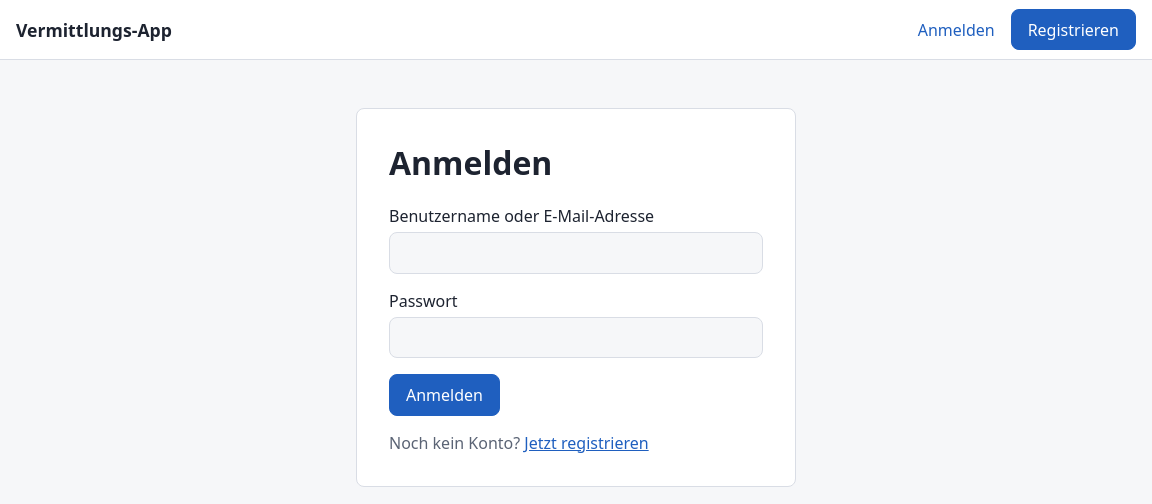
Test: LoginPage › returns to the originally requested page after login
This screenshot has width=1152, height=504.
Type "anna@example.com" into the field labelled "Benutzername oder E-Mail-Adresse".
click(576, 253); type("anna@example.com")  # box [389, 232, 763, 274]
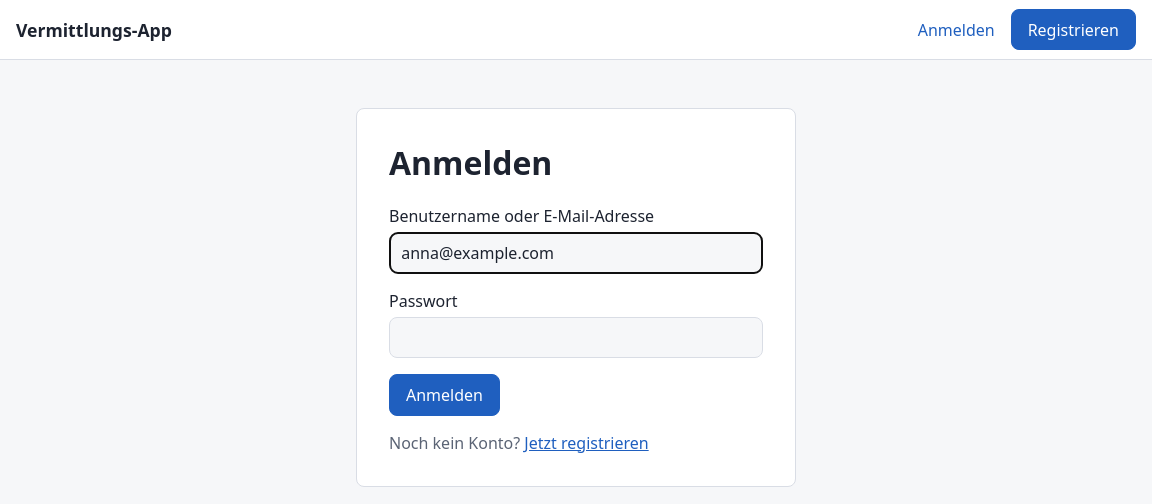
Type "S3cure-pass!" into the password field labelled "Passwort".
click(576, 337); type("S3cure-pass!")  # box [389, 317, 763, 358]
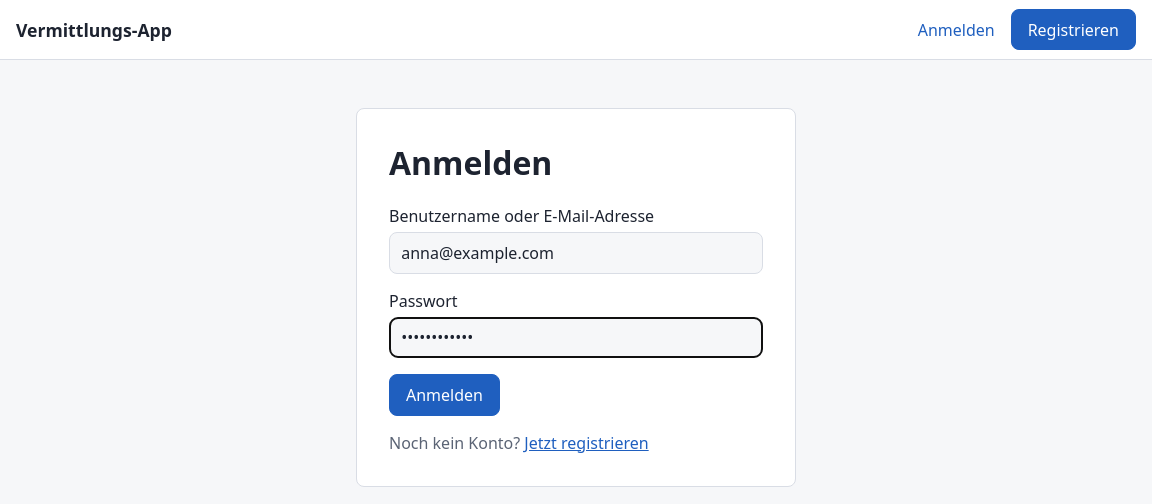
Click the button "Anmelden".
click(444, 395)  # box [389, 374, 500, 416]
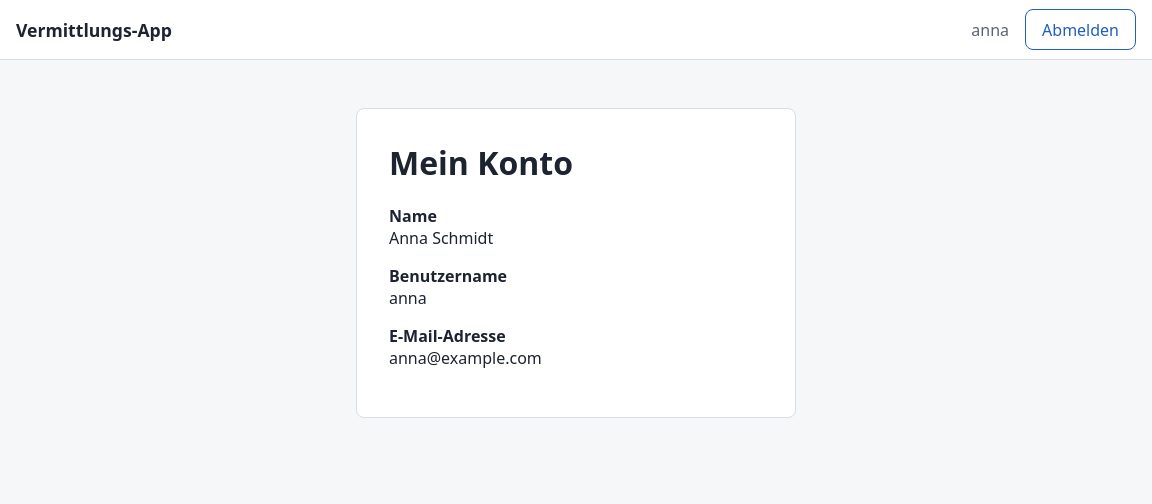
Expected: the heading "Mein Konto" is shown, [389, 141, 573, 184]
